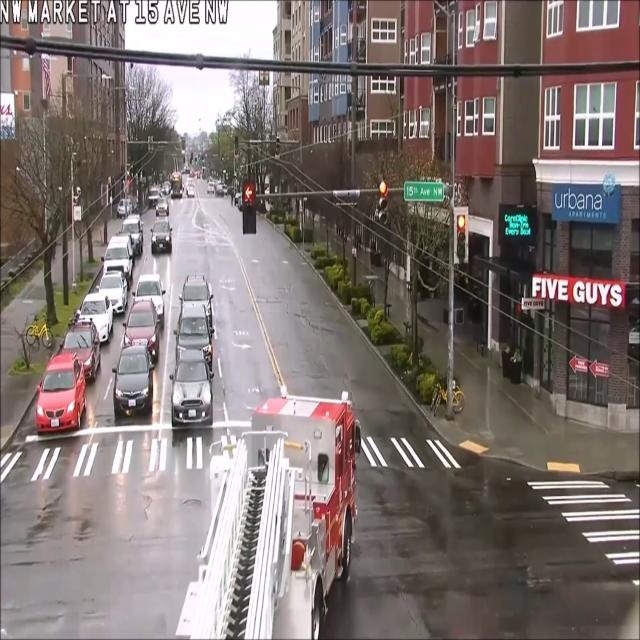traffic-light: (35, 352, 86, 434), (171, 350, 213, 426), (113, 345, 154, 415), (123, 300, 159, 361), (61, 325, 100, 380), (74, 294, 113, 344), (133, 273, 165, 328), (89, 271, 128, 314), (176, 315, 213, 359), (180, 276, 213, 319), (104, 236, 134, 276), (120, 215, 144, 255), (151, 217, 172, 254), (117, 199, 132, 217), (156, 197, 169, 216)
truck: (180, 393, 364, 640), (171, 172, 183, 198)
